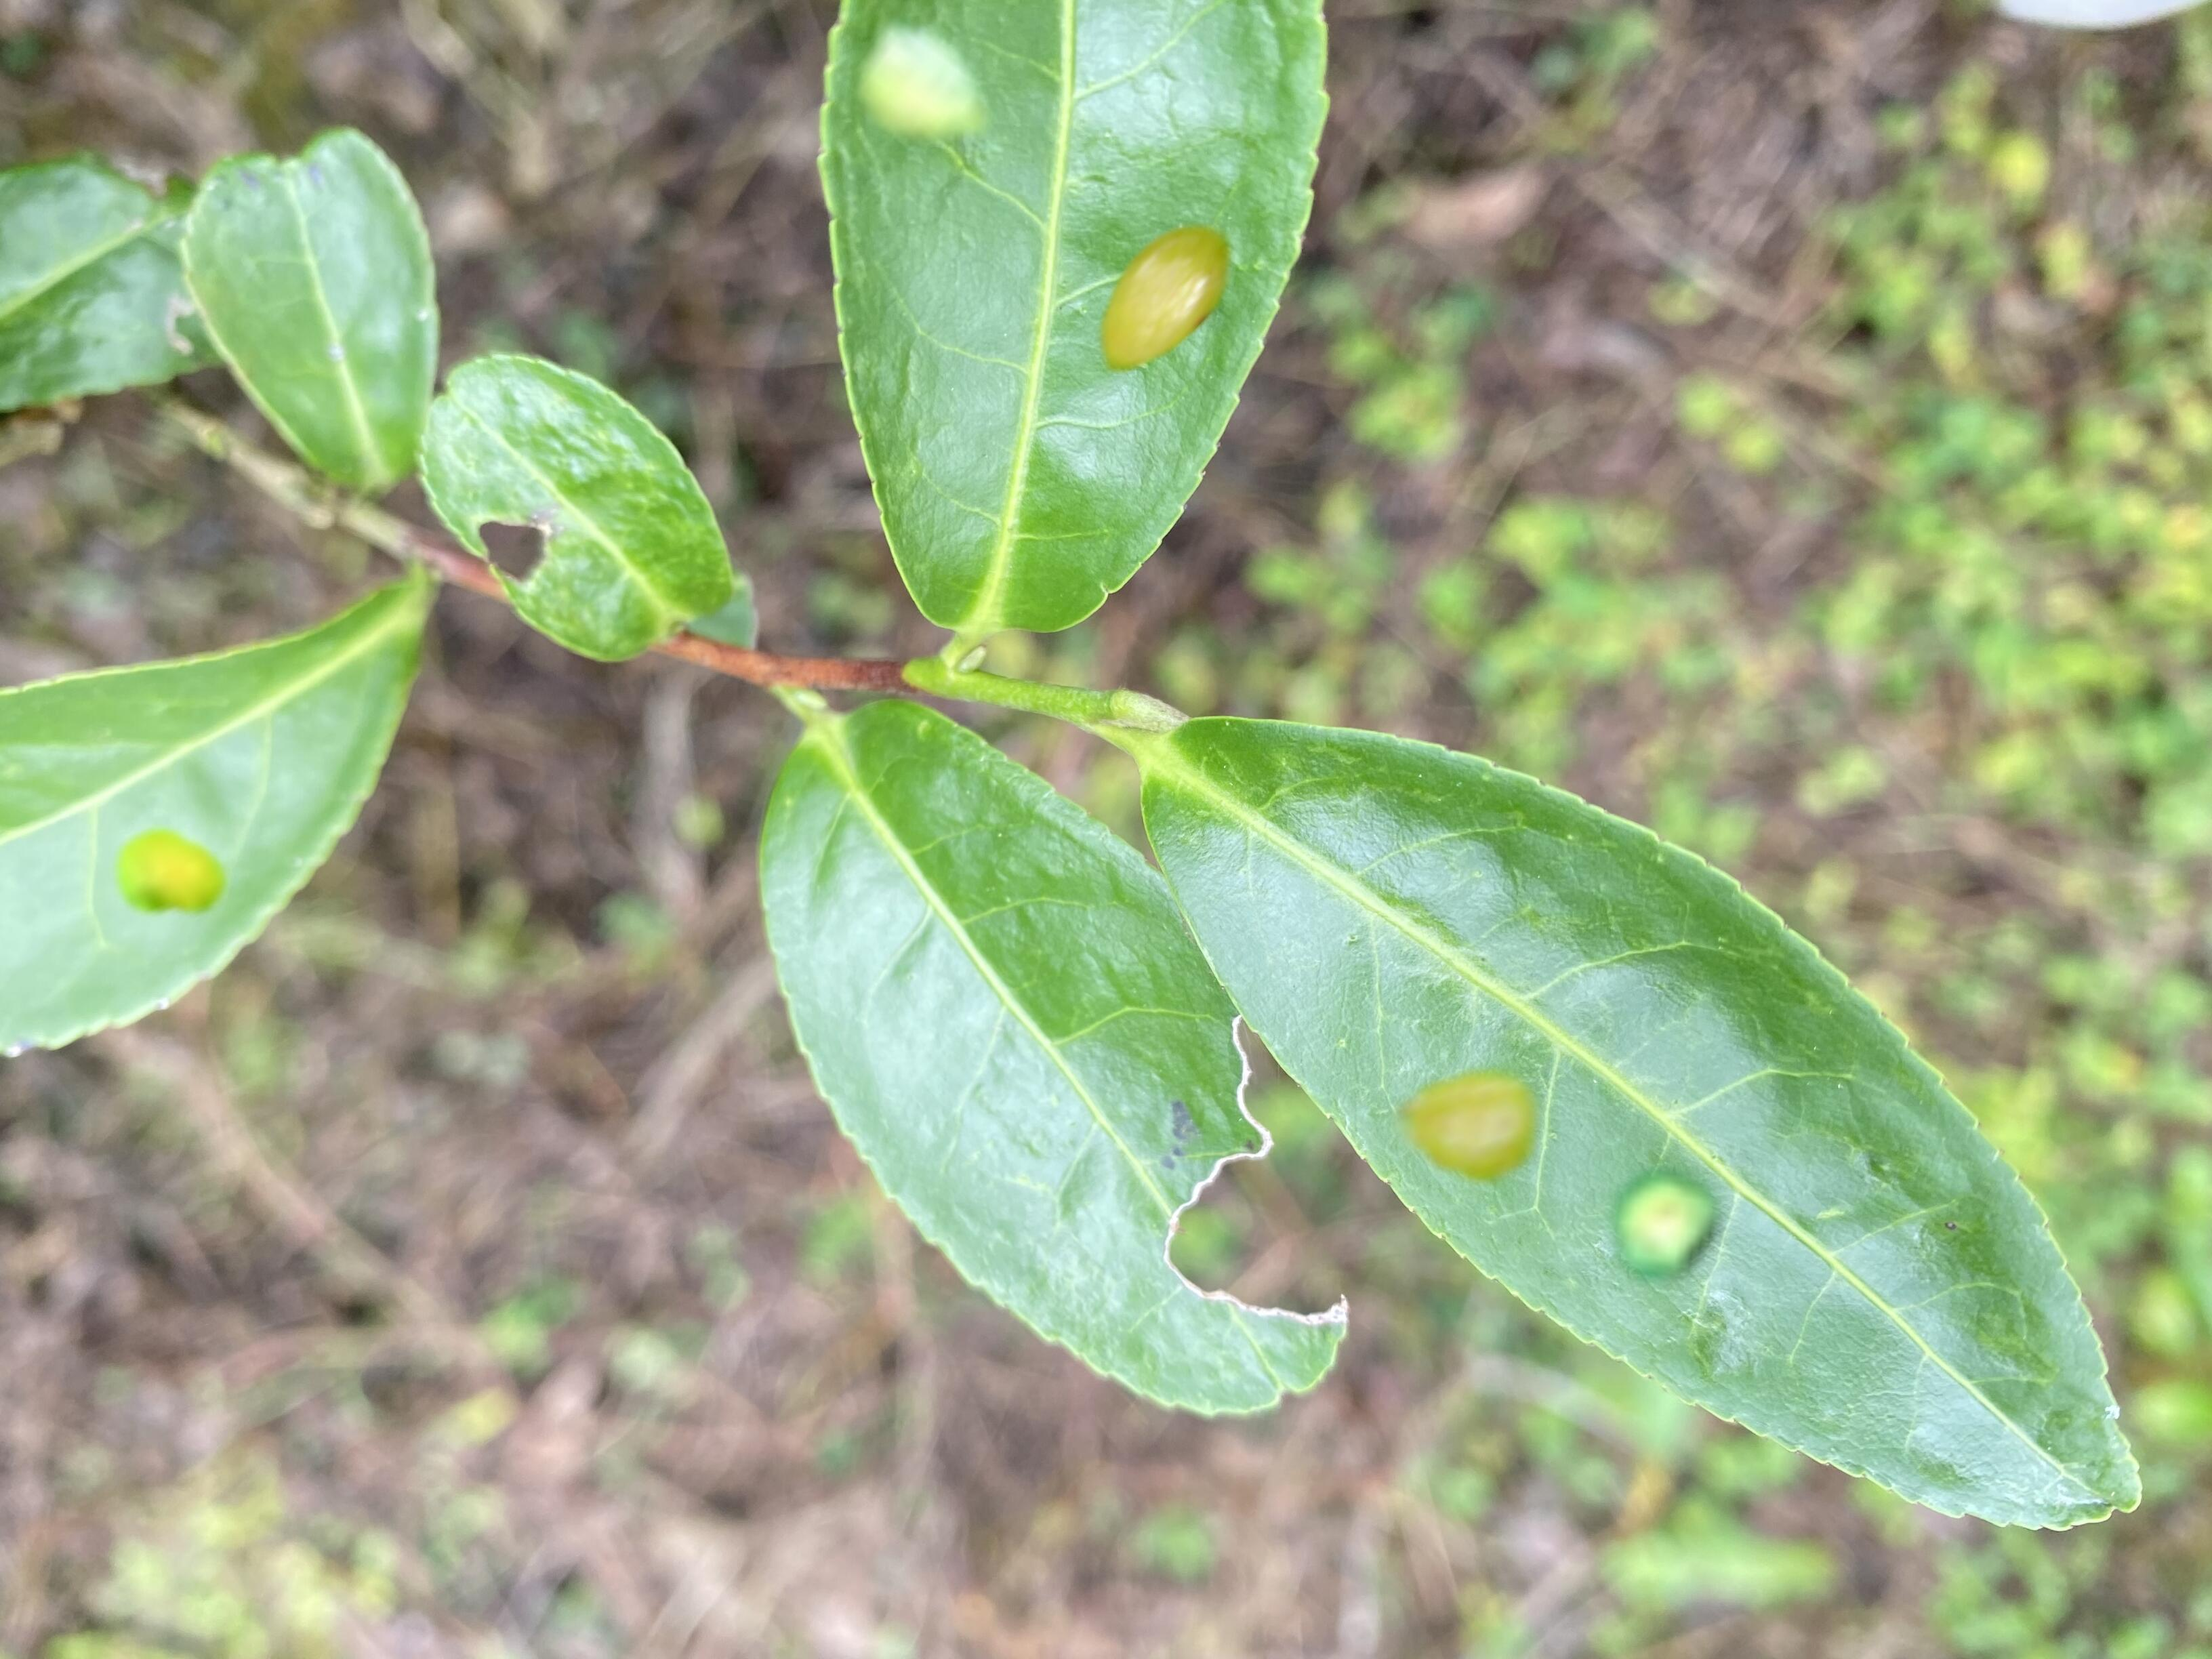chabing_high: (1139, 716, 2146, 1534), (817, 2, 1332, 638)
chabing_low: (0, 573, 434, 1065)
chihuo_low: (756, 697, 1350, 1419), (418, 350, 733, 664), (181, 124, 439, 495)
